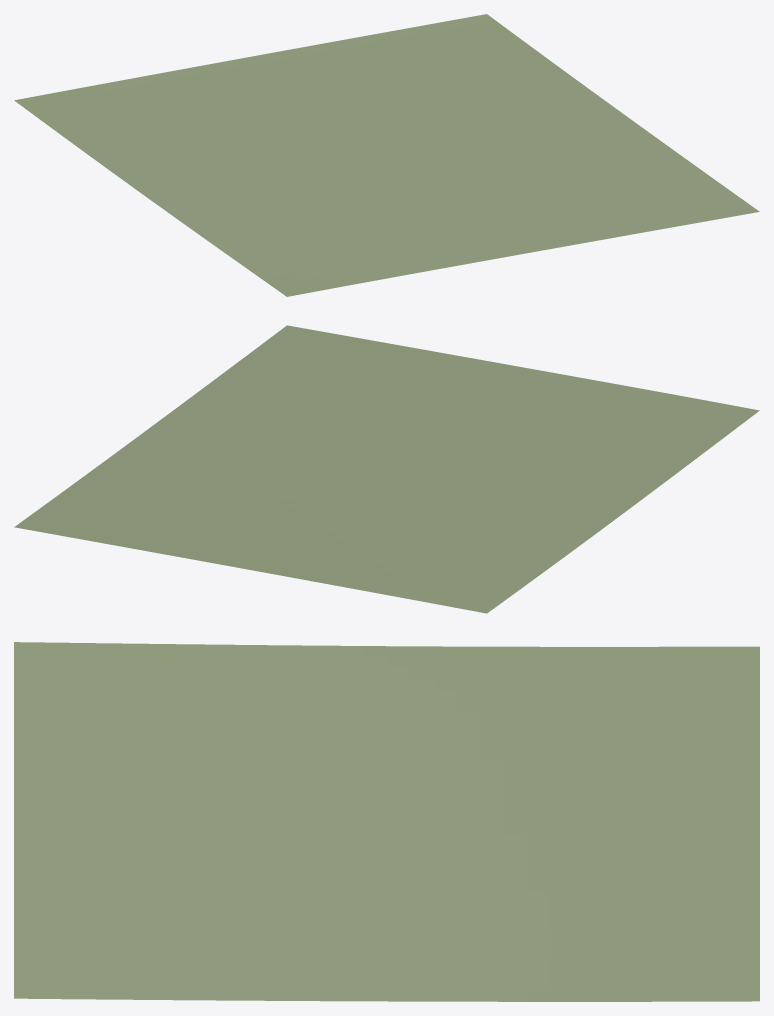
Rendered from desert-1-22.glb.
3 views of the same model, one above another, from view 1: azimuth 30°, elevation 25°; view 2: azimuth 150°, elevation 25°; view 3: azimuth 270°, elevation 25° (orthographic). The views are drawn at different scales.
Visible parts, largest first — view 1: desert-1-22; view 2: desert-1-22; view 3: desert-1-22.
Part boxes in pixels (x1,y1,x2,y2): desert-1-22: (14,14,759,296); desert-1-22: (14,325,759,613); desert-1-22: (14,642,759,1001).
Bounding box in the file's own units: 512 × 33.73 × 512.
